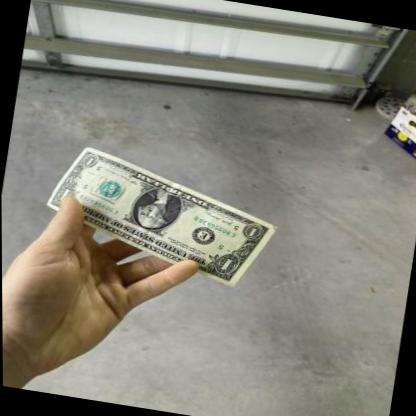one-front: (43, 144, 277, 289)
